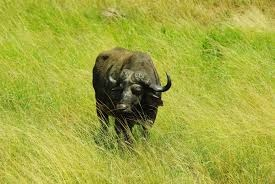buffalo: (131, 94, 213, 184)
